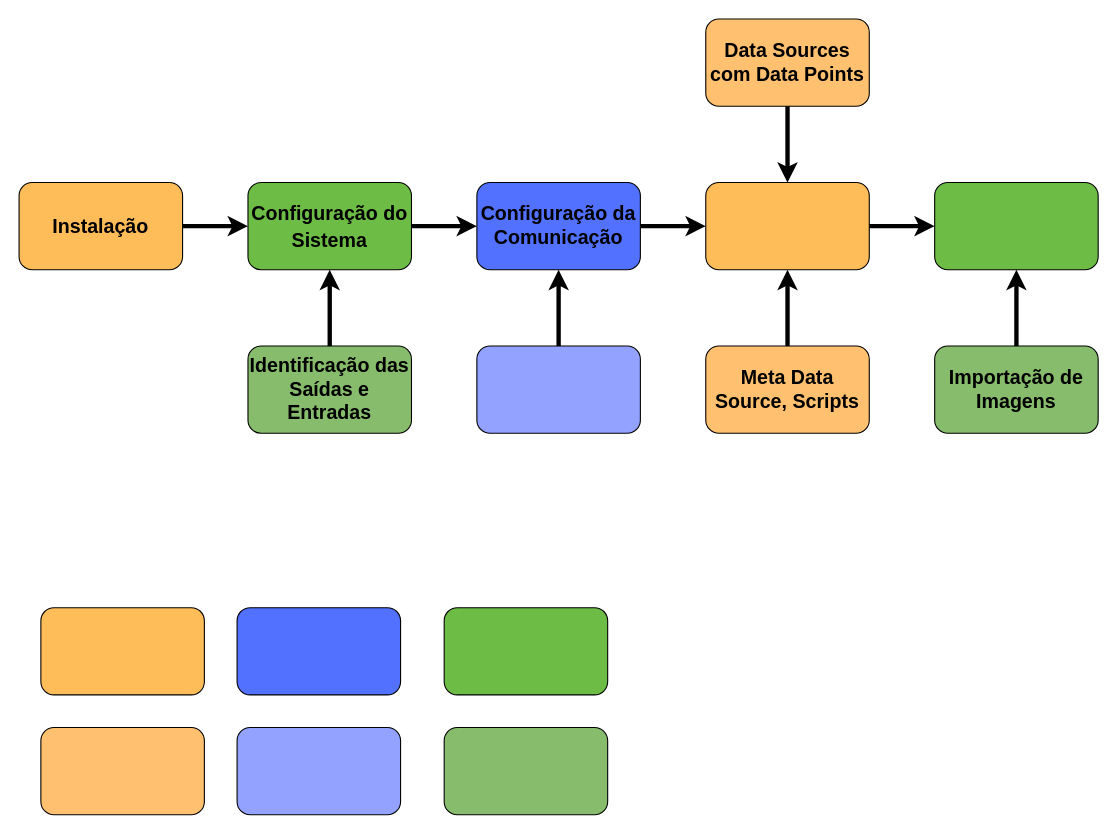
Some shapes in this 1117 by 834 pixel diagram are drawn without their labels. Each missing label, with the centre of its shape:
"Criação de Telas Gráficas (Supervisório)" belongs at (1016,225).
"Criação do Projeto no SCADA LTS" belongs at (787,225).
"Simulador MODBUS" belongs at (558,389).
